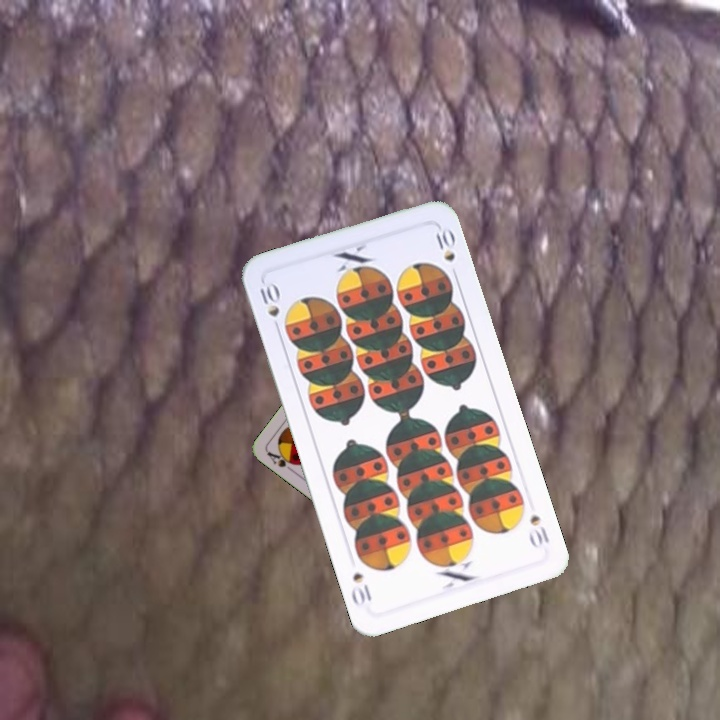S10: (256, 278, 283, 336), (525, 510, 552, 551)
SA: (263, 446, 302, 477)
